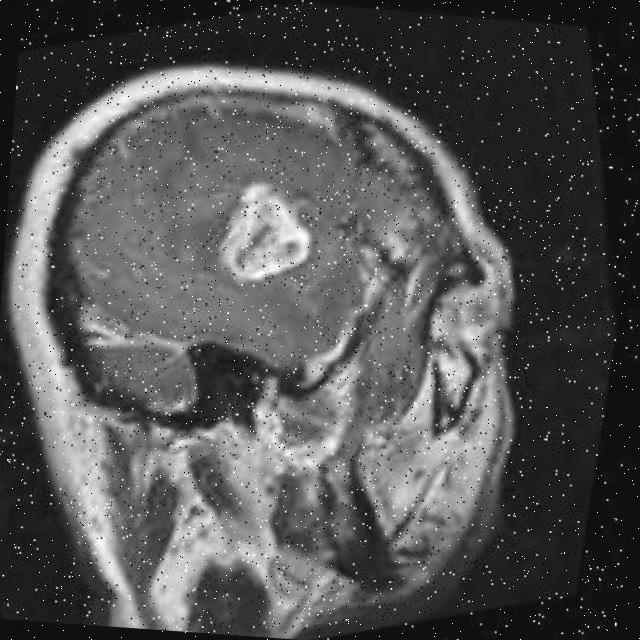LMCI: (152, 134, 374, 335)
